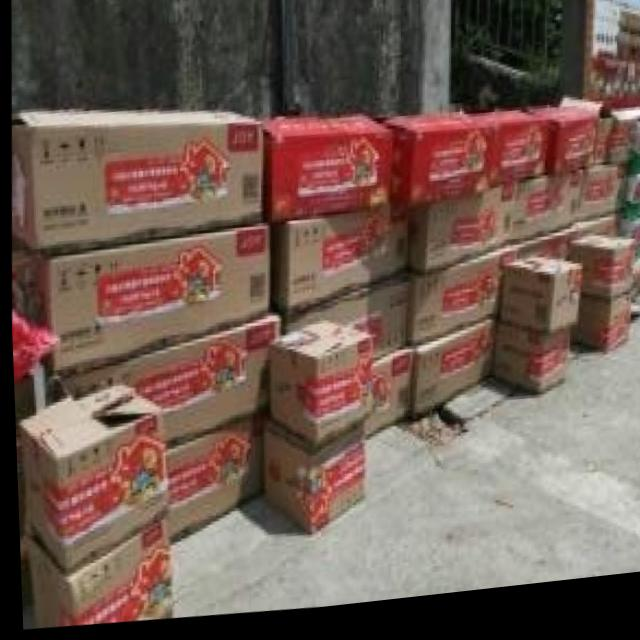box: (9, 225, 267, 374), (10, 113, 261, 255), (50, 316, 278, 447), (15, 387, 163, 574), (21, 519, 167, 628), (269, 211, 407, 320), (159, 409, 266, 545), (259, 121, 392, 228), (266, 324, 372, 450), (257, 424, 360, 544), (282, 280, 405, 371), (402, 257, 514, 355), (382, 122, 493, 215), (406, 327, 494, 428), (405, 196, 501, 281), (494, 267, 580, 345), (465, 119, 545, 199), (499, 185, 582, 260), (489, 327, 566, 407), (521, 108, 598, 187), (564, 246, 630, 316), (360, 355, 409, 445), (564, 182, 626, 253), (566, 305, 630, 365), (589, 71, 640, 126), (584, 132, 635, 185), (501, 236, 571, 274), (609, 118, 640, 184), (612, 230, 640, 276), (619, 183, 640, 236)
